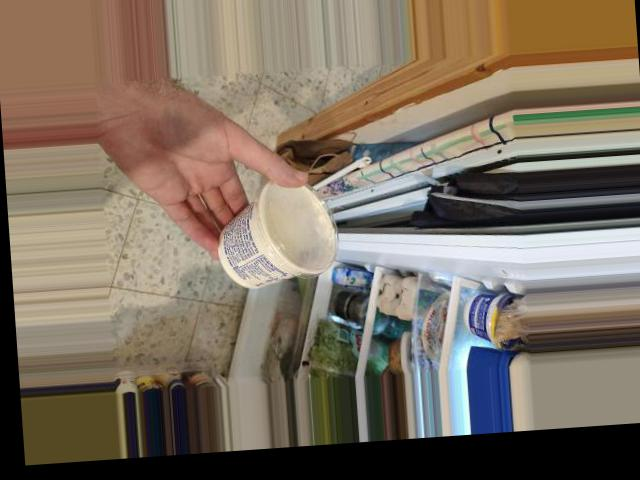cotage: (209, 183, 339, 282)
